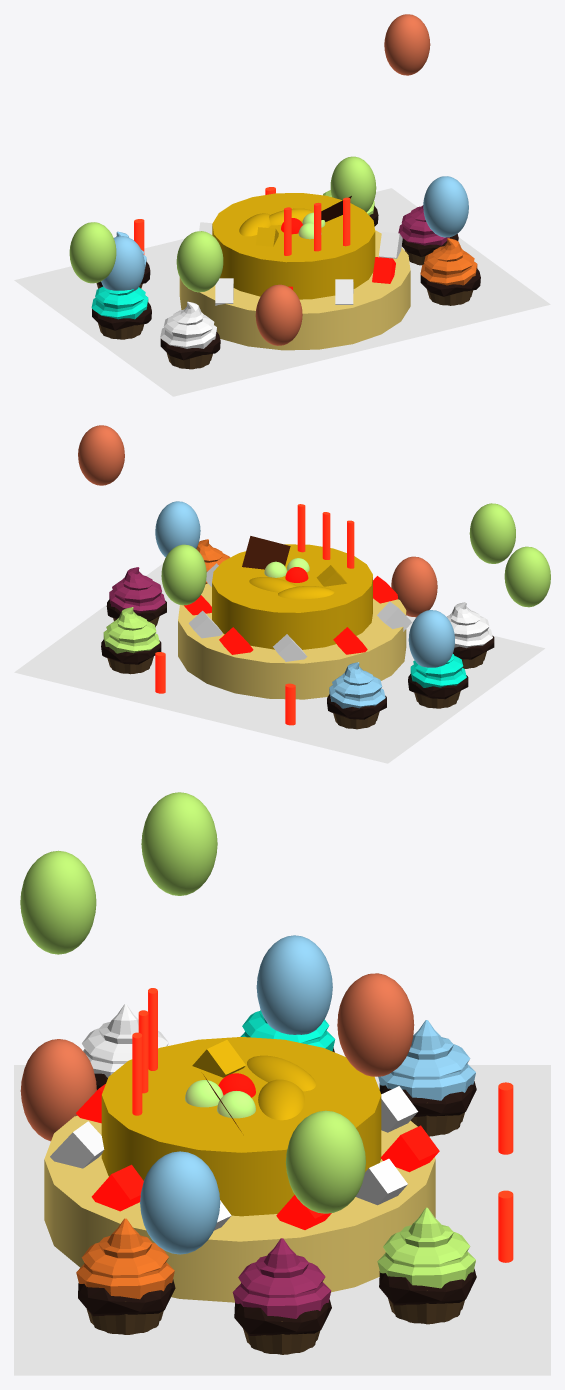
File: HBDtheme.fbx
The picture shows the model from 3 angles, top to bottom: view 1: azimuth 30°, elevation 25°; view 2: azimuth 150°, elevation 25°; view 3: azimuth 270°, elevation 25°; orthographic projection. The views are drawn at different scales.
Visible parts, largest first — view 1: Plane, Cylinder__1__1, Cylinder_1, Cupcake__3_, Cupcake__2_, Cupcake__1_, Sphere_3, Sphere_1, Sphere_4, Sphere_6, Sphere, Sphere_2 (+7 smaller); view 2: Plane, Cylinder__1__1, Cylinder_1, Cupcake__4_, Cupcake__5_, Cupcake__1_, Sphere_6, Sphere_1, Sphere_4, Sphere_2, Cupcake, Sphere_5 (+17 smaller); view 3: Plane, Cylinder__1__1, Cylinder_1, Cupcake__5_, Cupcake, Cupcake__3_, Sphere, Sphere_2, Cupcake__4_, Sphere_6, Sphere_4, Sphere_1 (+19 smaller).
Boxes of the visible parts, box(x1,y1,x2,y2) form: Plane: box(14, 188, 550, 396); Cylinder__1__1: box(212, 193, 375, 299); Cylinder_1: box(179, 230, 410, 350); Cupcake__3_: box(420, 238, 480, 305); Cupcake__2_: box(160, 301, 220, 369); Cupcake__1_: box(91, 286, 151, 339); Sphere_3: box(255, 284, 302, 345); Sphere_1: box(69, 222, 116, 283); Sphere_4: box(176, 231, 223, 292); Sphere_6: box(384, 14, 430, 75); Sphere: box(423, 176, 468, 237); Sphere_2: box(330, 156, 376, 212); Plane: box(14, 564, 544, 763); Cylinder__1__1: box(212, 544, 372, 649); Cylinder_1: box(178, 583, 406, 699); Cupcake__4_: box(327, 662, 386, 729); Cupcake__5_: box(101, 607, 161, 674); Cupcake__1_: box(408, 654, 468, 708); Sphere_6: box(78, 425, 124, 485); Sphere_1: box(504, 546, 550, 607); Sphere_4: box(469, 503, 515, 563); Sphere_2: box(161, 544, 206, 605); Cupcake: box(106, 567, 166, 627); Sphere_5: box(408, 610, 454, 667); Plane: box(14, 1065, 550, 1375); Cylinder__1__1: box(101, 1037, 381, 1216); Cylinder_1: box(44, 1115, 435, 1302); Cupcake__5_: box(377, 1207, 476, 1324); Cupcake: box(232, 1238, 331, 1354); Cupcake__3_: box(76, 1218, 175, 1334); Sphere: box(140, 1151, 220, 1254); Sphere_2: box(285, 1110, 365, 1213); Cupcake__4_: box(378, 1020, 476, 1136); Sphere_6: box(337, 973, 414, 1076); Sphere_4: box(20, 850, 96, 954); Sphere_1: box(141, 792, 217, 895).
Size of the model in its own units: 428 by 218 by 275.
